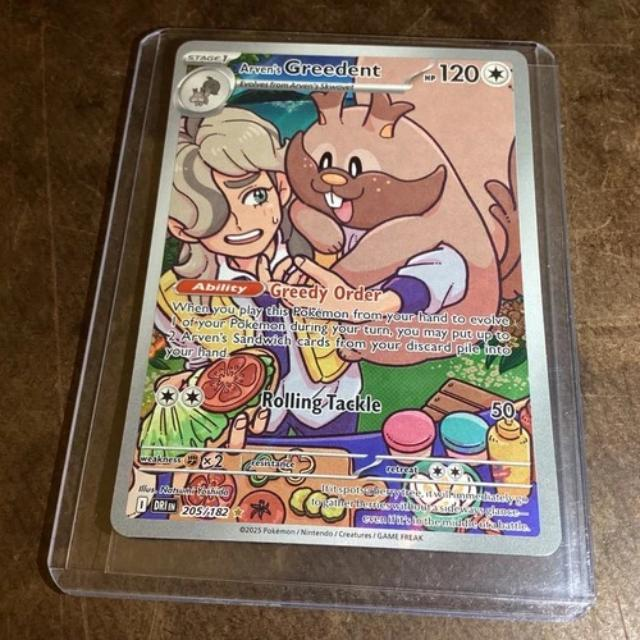Card: (103, 36, 568, 561)
Name: (233, 53, 389, 86)
